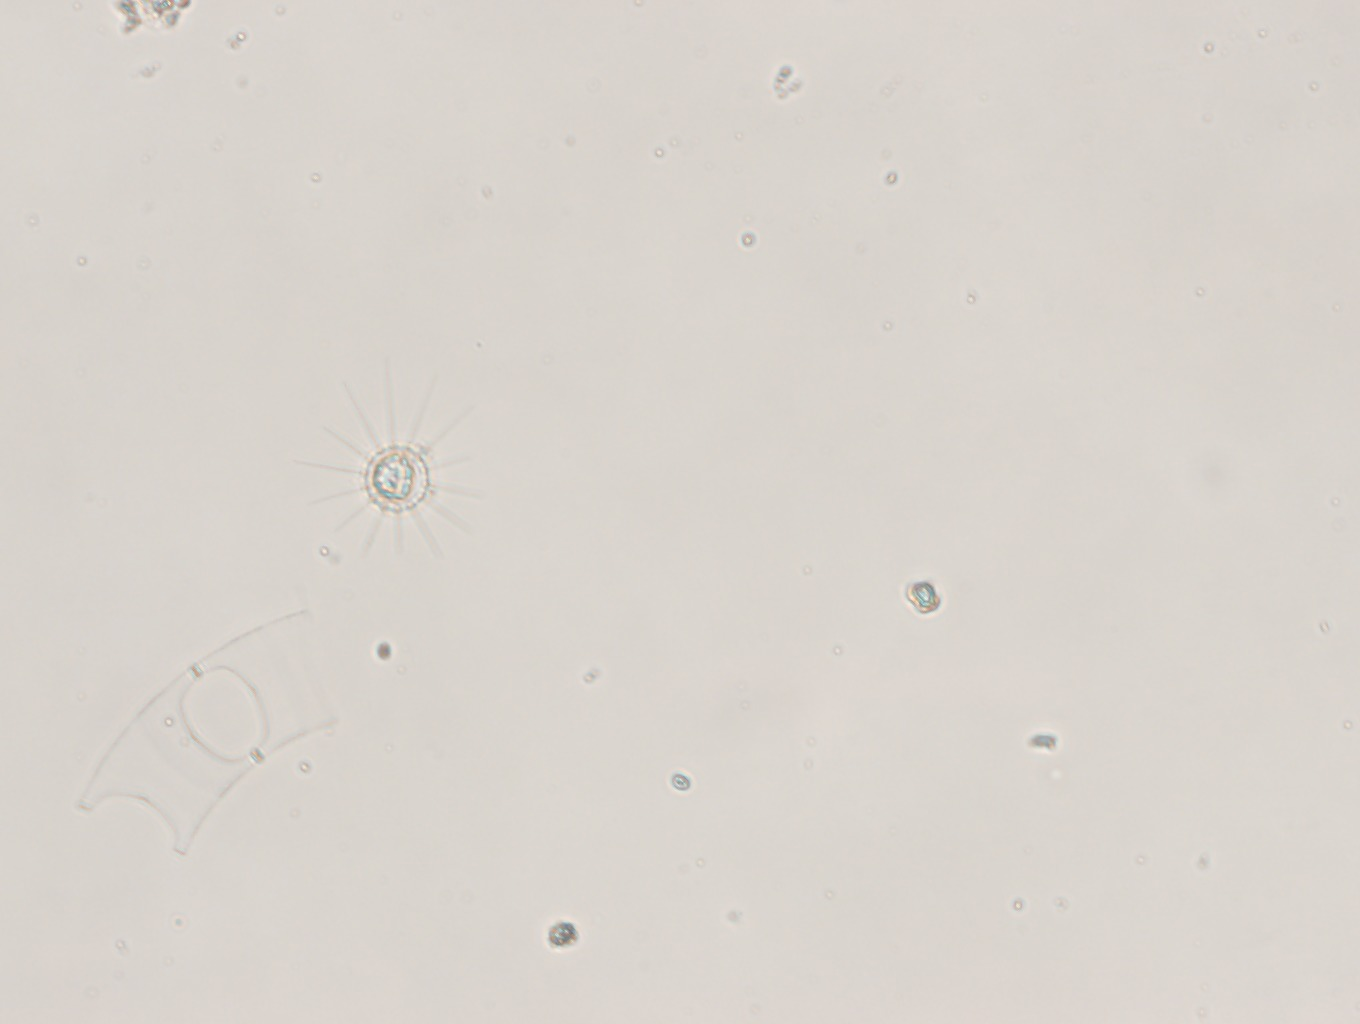bacteriastrum: (282, 371, 518, 580)
eucampia: (81, 612, 369, 861)
